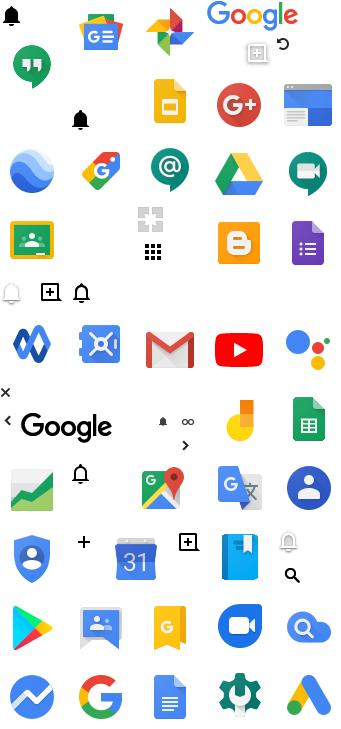button: (68, 276, 96, 308), (36, 278, 62, 307), (1, 282, 26, 310)
